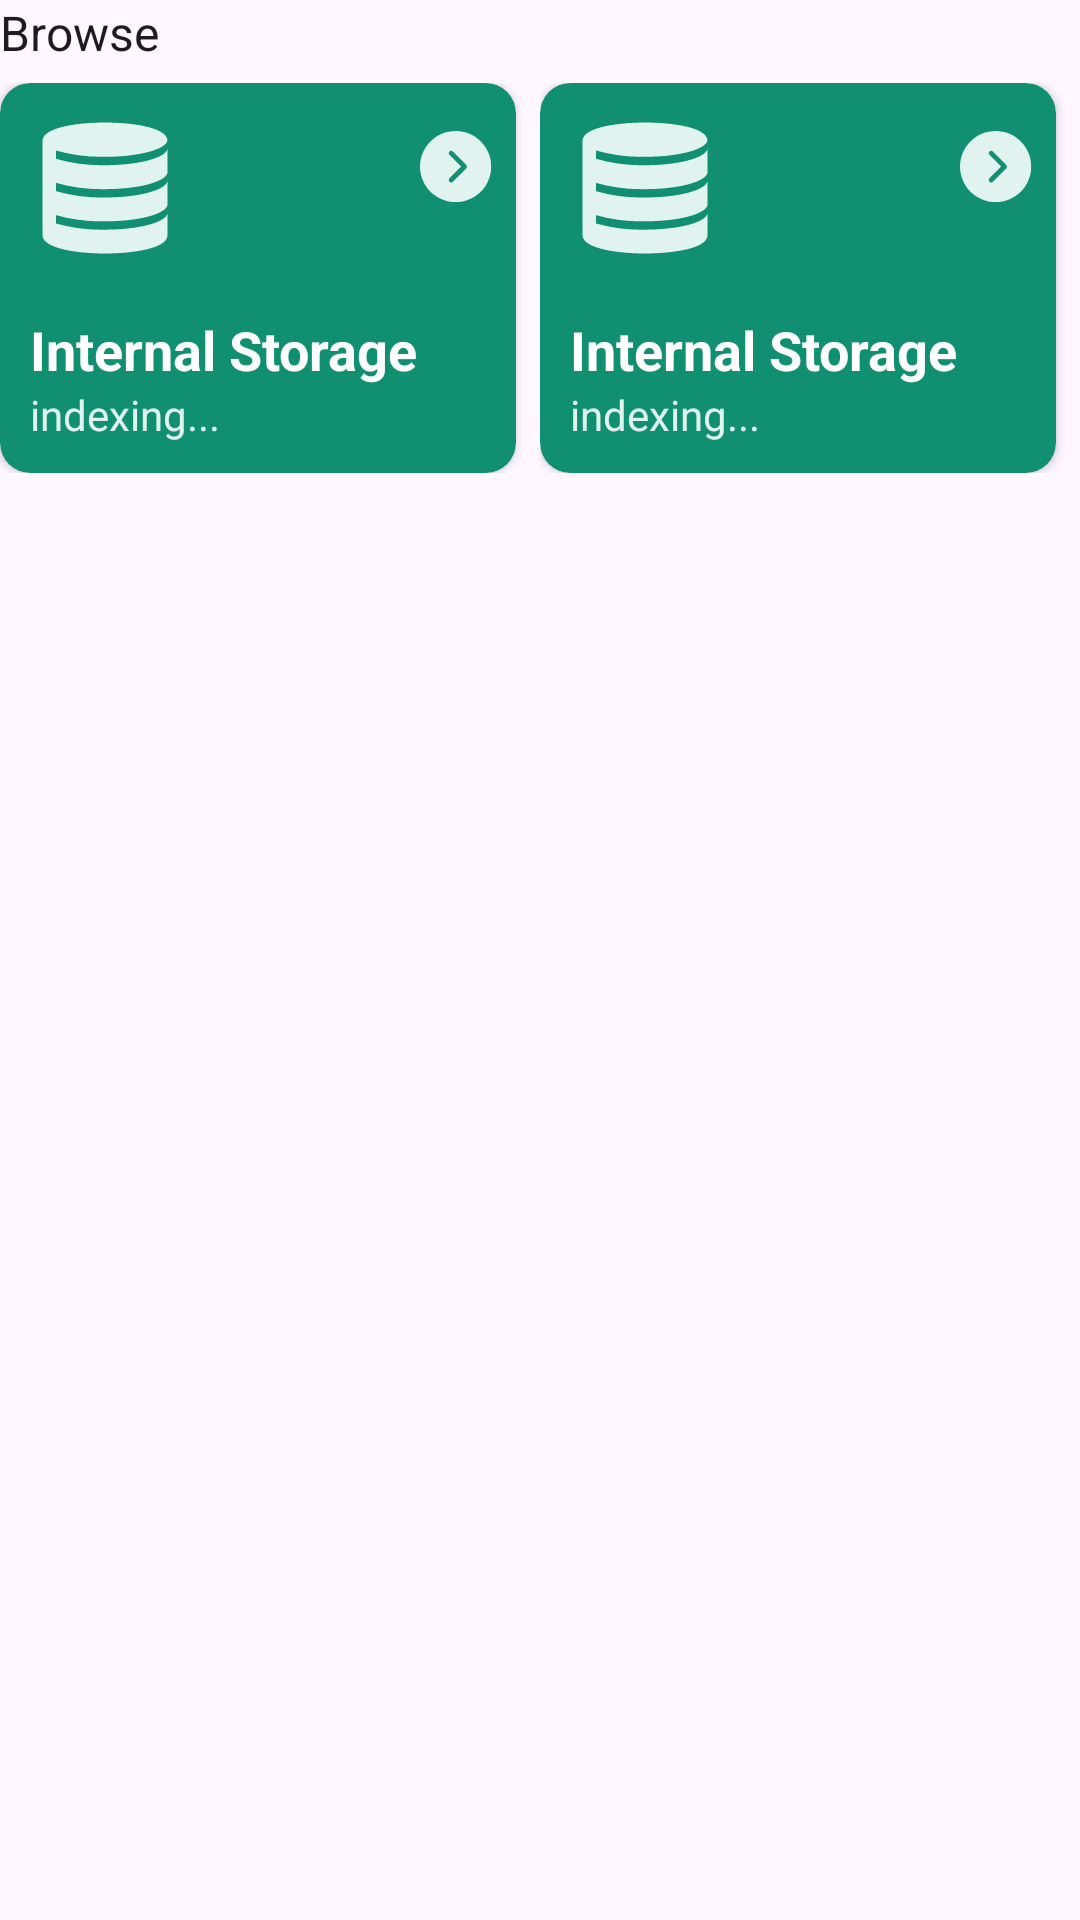

Locate icon controls on the screen. Image size 1080*1920, boxes as (x1, y1, x2, y2).
arrow: (420, 131, 491, 202), (960, 131, 1031, 202)
clarity storage: (42, 122, 168, 254), (582, 122, 708, 254)
